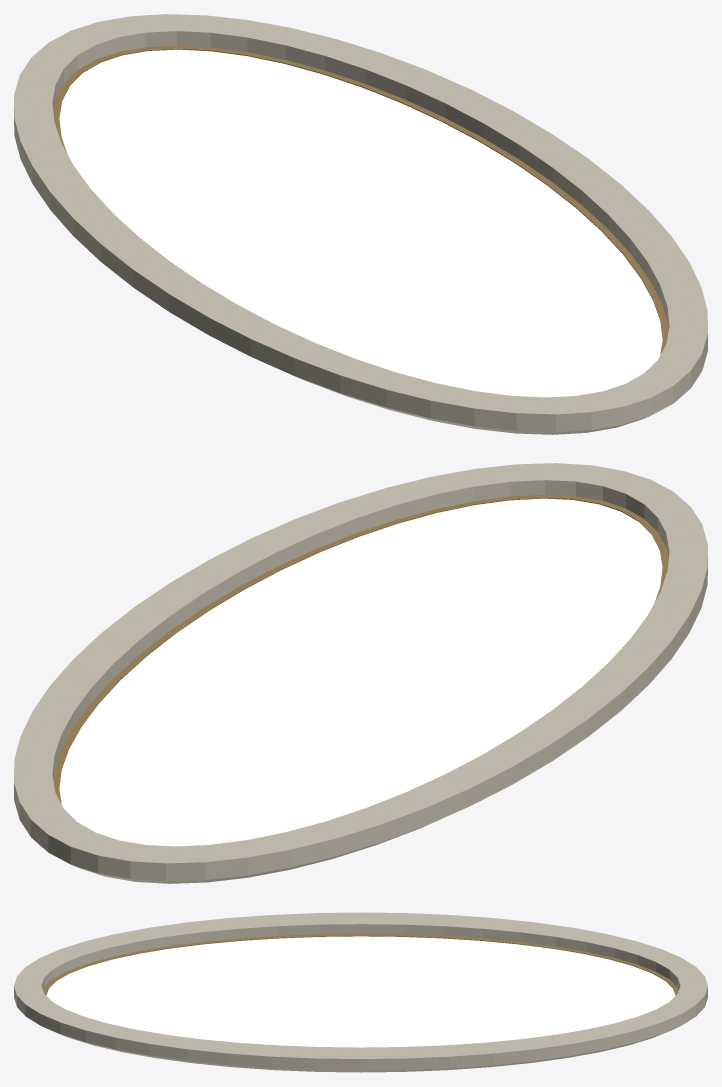
The model's file is AST-ATR-002.glb.
The picture shows the model from 3 angles, top to bottom: view 1: azimuth 30°, elevation 25°; view 2: azimuth 150°, elevation 25°; view 3: azimuth 270°, elevation 25°; orthographic projection. The views are drawn at different scales.
Parts seen in each view (by area): view 1: DAY_Diffuser, DAY_ProfiledFrame, DAY_MetalDiffuserSeat; view 2: DAY_Diffuser, DAY_ProfiledFrame, DAY_MetalDiffuserSeat; view 3: DAY_Diffuser, DAY_ProfiledFrame, DAY_MetalDiffuserSeat.
Boxes of the visible parts, bbox=[...] form: DAY_Diffuser: bbox=[59, 49, 662, 397]; DAY_ProfiledFrame: bbox=[14, 14, 707, 434]; DAY_MetalDiffuserSeat: bbox=[53, 45, 668, 354]; DAY_Diffuser: bbox=[59, 498, 662, 846]; DAY_ProfiledFrame: bbox=[14, 463, 707, 883]; DAY_MetalDiffuserSeat: bbox=[53, 494, 668, 803]; DAY_Diffuser: bbox=[46, 936, 675, 1047]; DAY_ProfiledFrame: bbox=[14, 912, 707, 1072]; DAY_MetalDiffuserSeat: bbox=[43, 933, 678, 995].
Size of the model in its own units: 12 by 0.65 by 24.
Materials: 4 (3 with a texture image).
